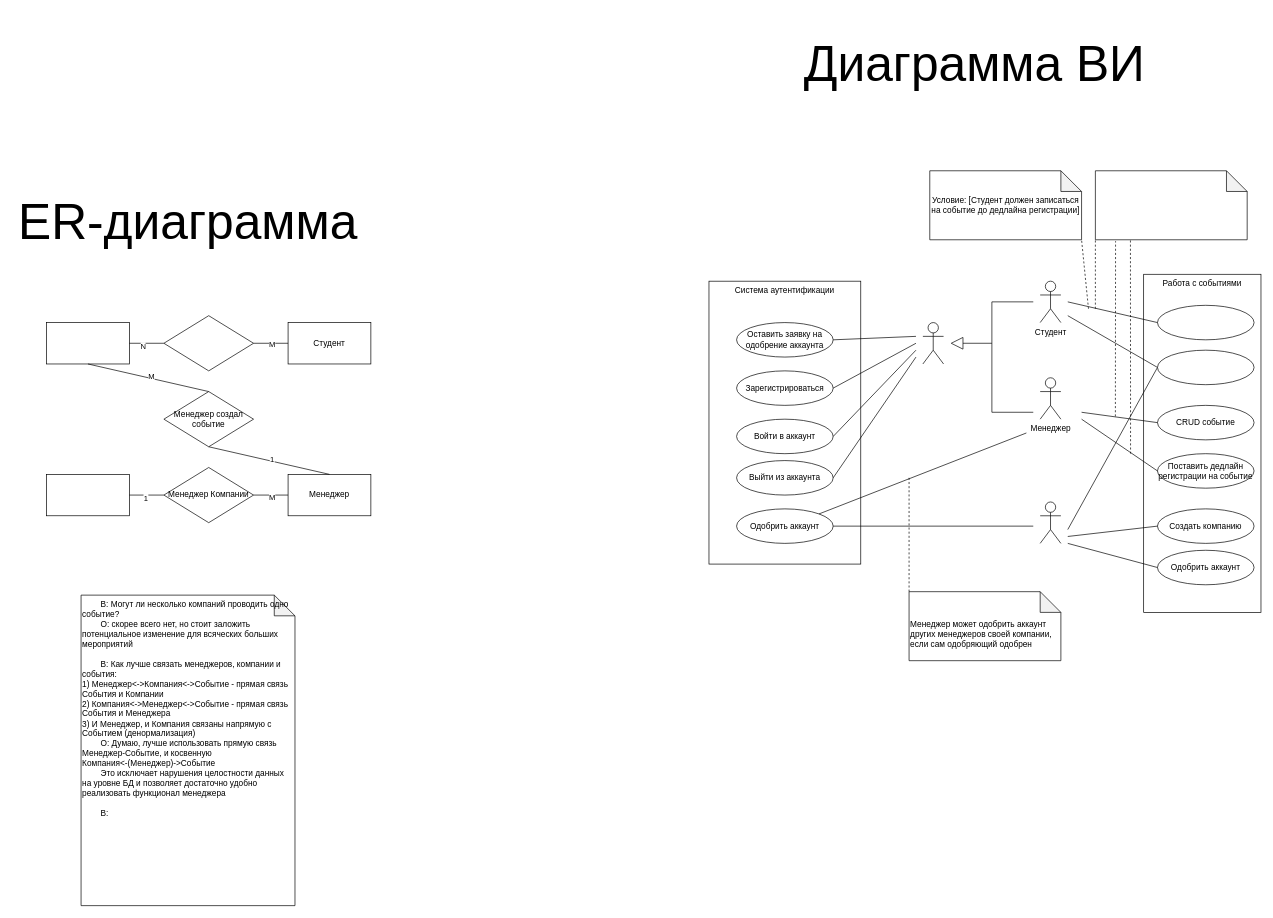
Some shapes in this 1273 by 918 pixel diagram are drawn without their labels. The shapes that lost their labels are listed below. From the top down, each one's centre as x and y in pixels, then its label:
the point at 1171,205: Условие: [только для одобренных пользователей (менеджеров или студентов)]
the point at 1205,322: Записаться на событие
the point at 87,343: Событие
the point at 208,343: Событие-Студент
the point at 933,343: Регистрируемый пользователь
the point at 1205,367: Просмотреть события
the point at 87,495: Компания
the point at 1050,522: Деканат
